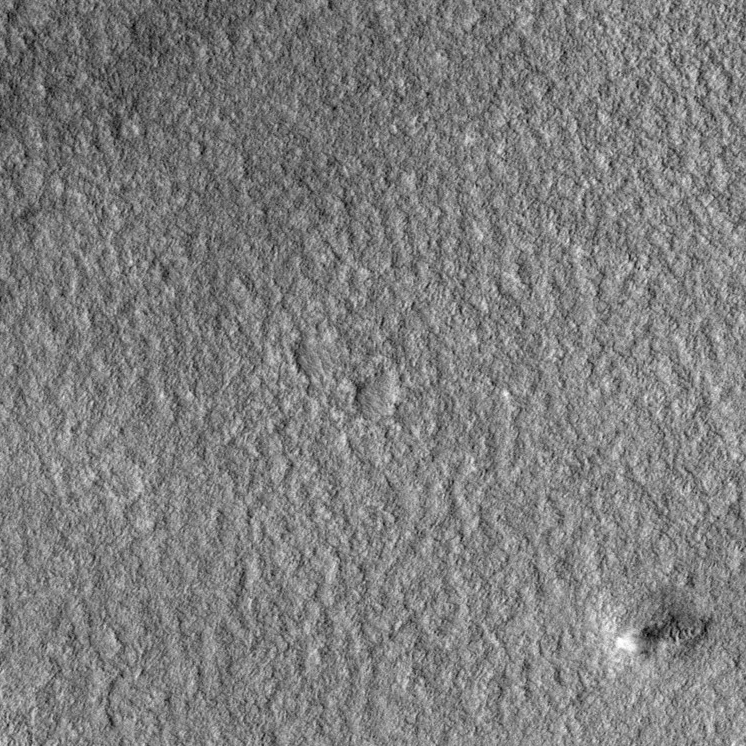dust_devil: (610, 610, 707, 660)
